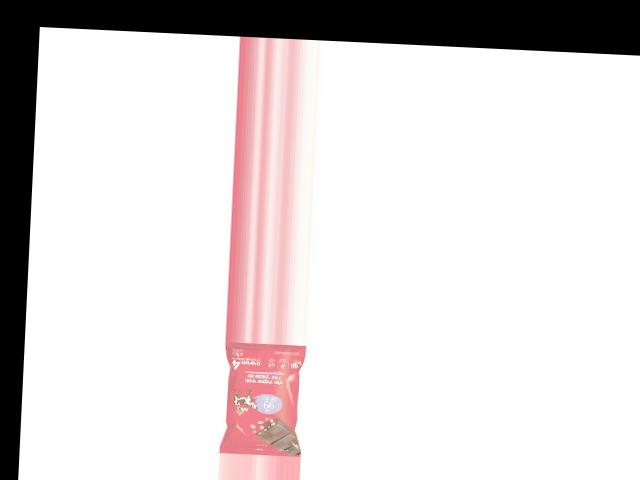chocolate: (222, 341, 307, 456)
